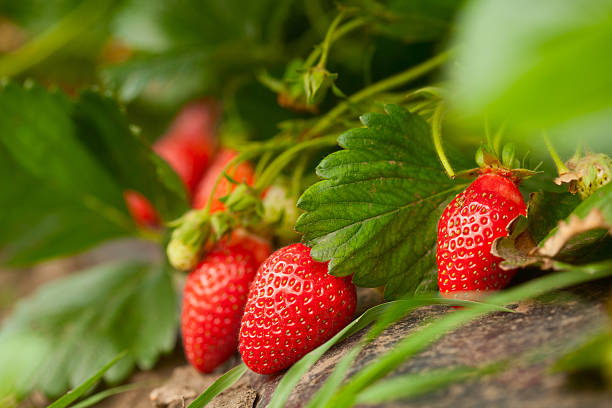Fresa: (236, 235, 365, 376), (429, 155, 538, 312)
